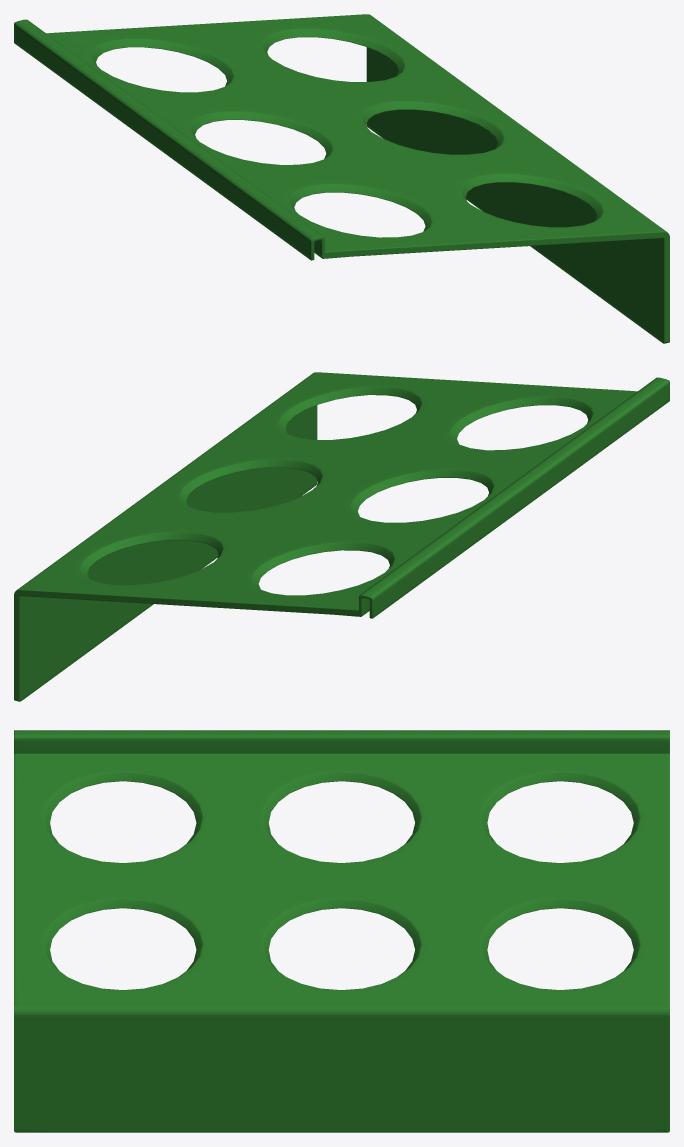
Rendered from SM_Fridge_Egg_Tray.fbx.
3 renders of one model, top to bottom at view 1: azimuth 30°, elevation 25°; view 2: azimuth 150°, elevation 25°; view 3: azimuth 270°, elevation 25°, orthographic. The views are drawn at different scales.
Parts seen in each view (by area): view 1: SM_Fridge_Egg_Tray; view 2: SM_Fridge_Egg_Tray; view 3: SM_Fridge_Egg_Tray.
Boxes of the visible parts, x1,y1,x2,y2 form: SM_Fridge_Egg_Tray: (14, 14, 669, 343); SM_Fridge_Egg_Tray: (14, 372, 669, 701); SM_Fridge_Egg_Tray: (14, 730, 669, 1132).
Size of the model in its own units: 10.3 by 5.24 by 14.8.
